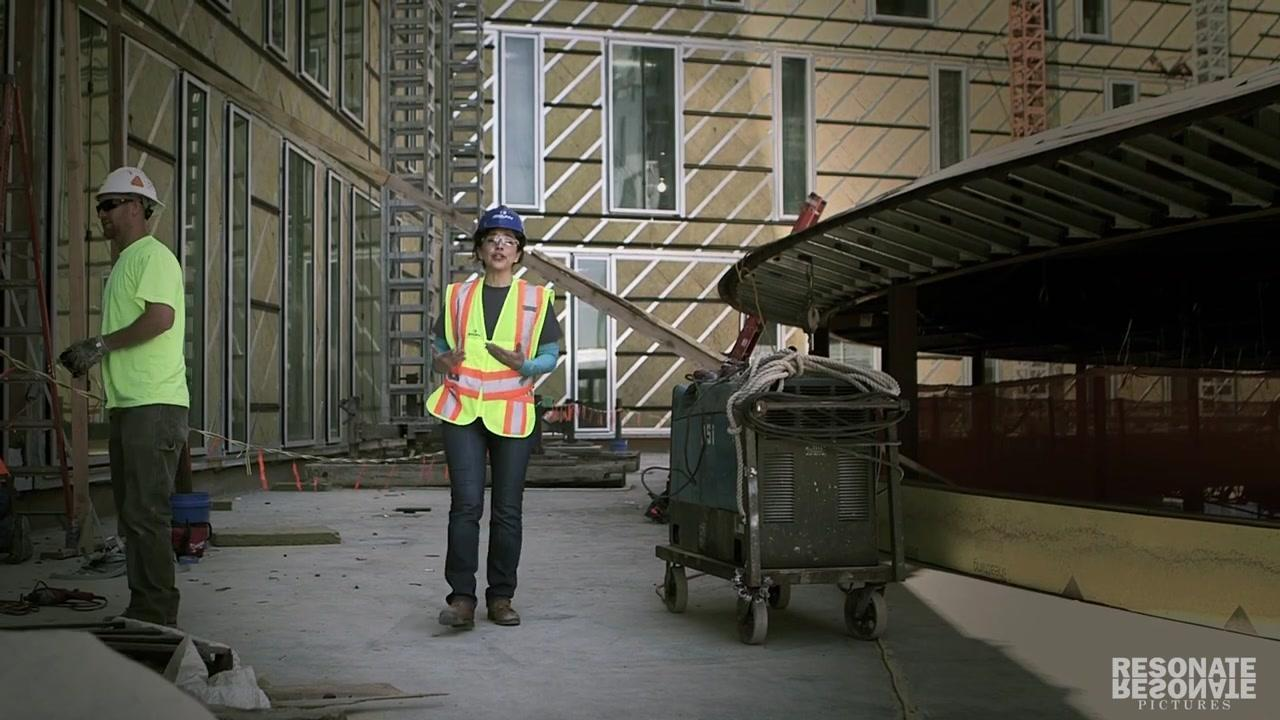vest: (418, 272, 561, 437)
